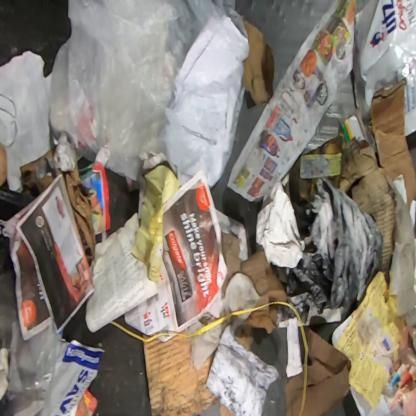cardboard: (289, 81, 415, 285), (143, 328, 219, 416), (284, 327, 351, 415), (233, 325, 255, 351)
soft_plastic: (50, 1, 253, 189), (0, 269, 68, 415), (354, 0, 415, 137)
